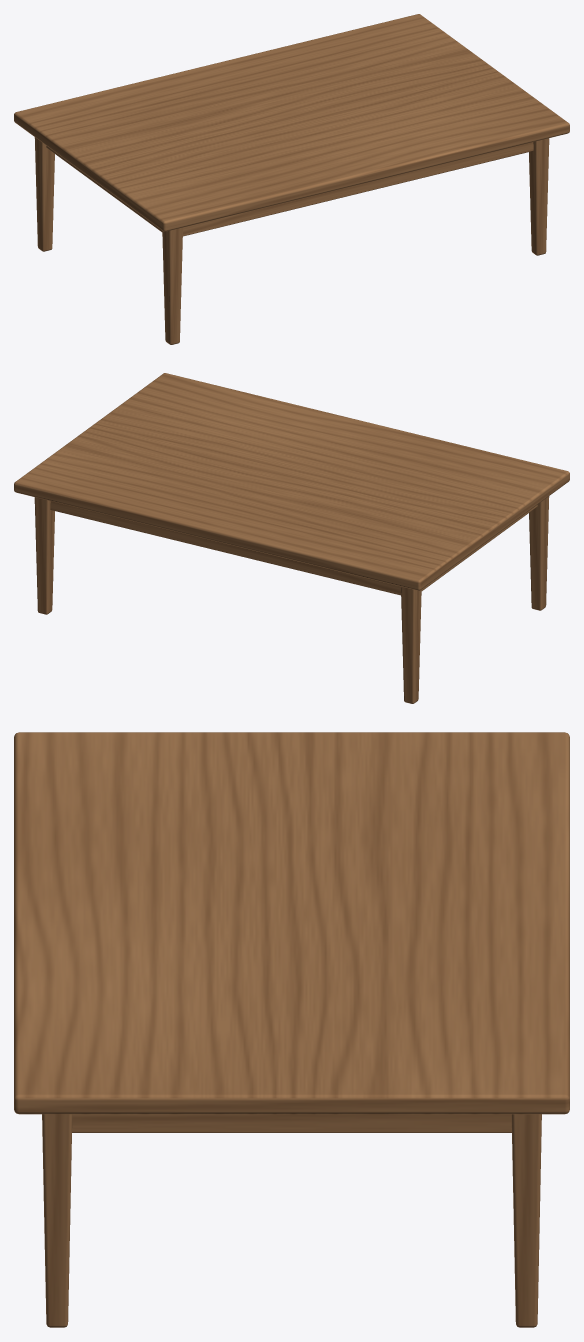
Rendered from mueble.mesa.fbx.
3 views of the same model, one above another, from view 1: azimuth 30°, elevation 25°; view 2: azimuth 150°, elevation 25°; view 3: azimuth 270°, elevation 25° (orthographic). The views are drawn at different scales.
Visible parts, largest first — view 1: Cubierta, Faldon largo.001, Pata.003, Pata.001, Pata.002; view 2: Cubierta, Faldon largo, Pata.002, Pata, Pata.003; view 3: Cubierta, Faldon corto, Pata, Pata.001.
Boxes of the visible parts, box(x1,y1,x2,y2) form: Cubierta: box(14, 14, 569, 231); Faldon largo.001: box(183, 142, 533, 236); Pata.003: box(162, 227, 182, 344); Pata.001: box(529, 138, 549, 255); Pata.002: box(34, 137, 54, 251); Cubierta: box(14, 373, 569, 590); Faldon largo: box(50, 501, 400, 595); Pata.002: box(401, 586, 421, 703); Pata: box(34, 497, 54, 614); Pata.003: box(529, 496, 549, 610); Cubierta: box(14, 732, 569, 1114); Faldon corto: box(72, 1114, 511, 1132); Pata: box(511, 1114, 541, 1327); Pata.001: box(42, 1114, 72, 1327).
Size of the model in its own units: 1.4 by 0.44 by 0.9.
Materials: 2 (2 with a texture image).
